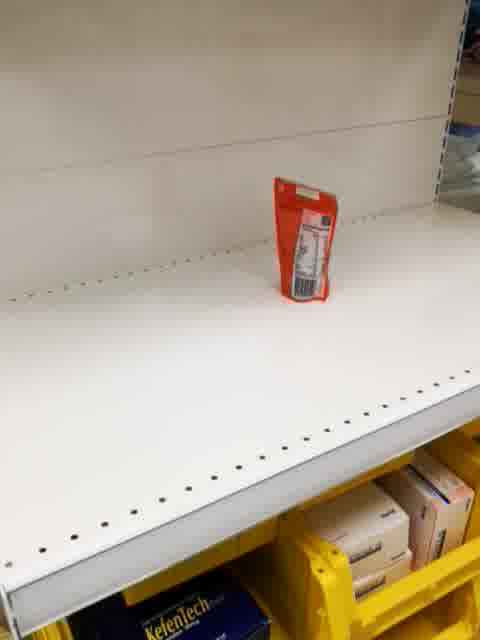whitechia: (271, 174, 340, 305)
